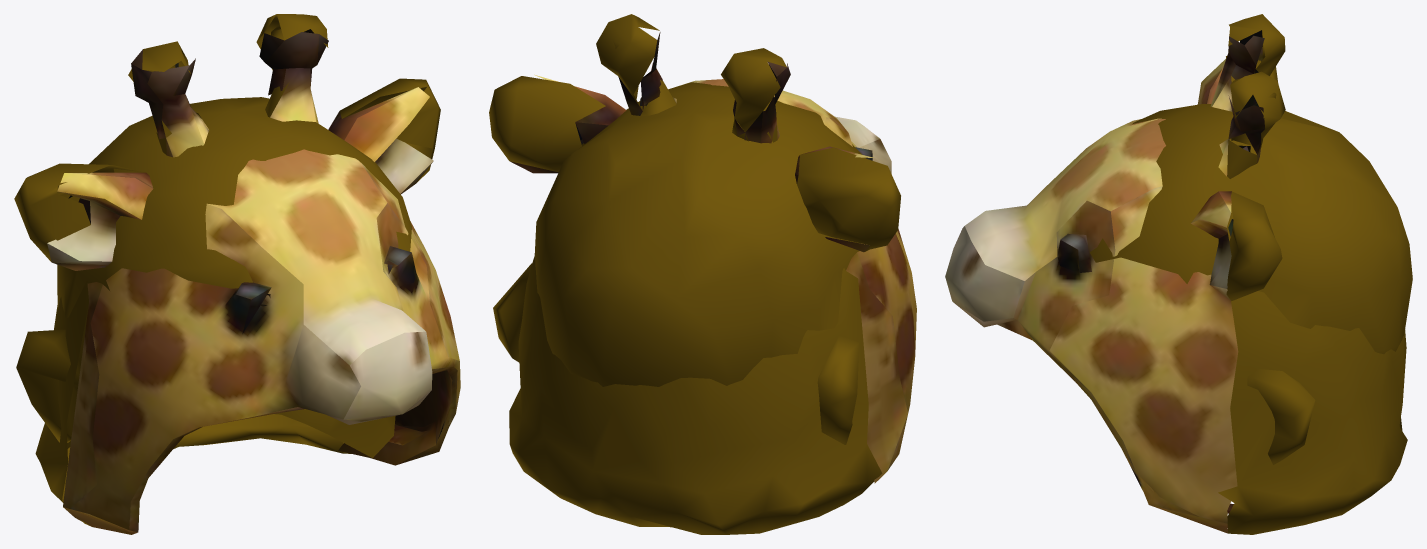
File: giraffe.glb
The picture shows the model from 3 angles, left to right: view 1: azimuth 30°, elevation 25°; view 2: azimuth 150°, elevation 25°; view 3: azimuth 270°, elevation 25°; orthographic projection. The views are drawn at different scales.
Parts seen in each view (by area): view 1: geometry_0, HoodAnatomicalLining; view 2: geometry_0, HoodAnatomicalLining; view 3: geometry_0, HoodAnatomicalLining.
Part boxes in pixels (bbox=[...]): geometry_0: bbox=[14, 14, 460, 534]; HoodAnatomicalLining: bbox=[16, 97, 411, 458]; geometry_0: bbox=[489, 14, 916, 534]; HoodAnatomicalLining: bbox=[493, 82, 865, 444]; geometry_0: bbox=[945, 14, 1407, 534]; HoodAnatomicalLining: bbox=[1090, 104, 1412, 464].
Size of the model in its own units: 0.5153 by 0.5443 by 0.5357.
Materials: 2 (1 with a texture image).
